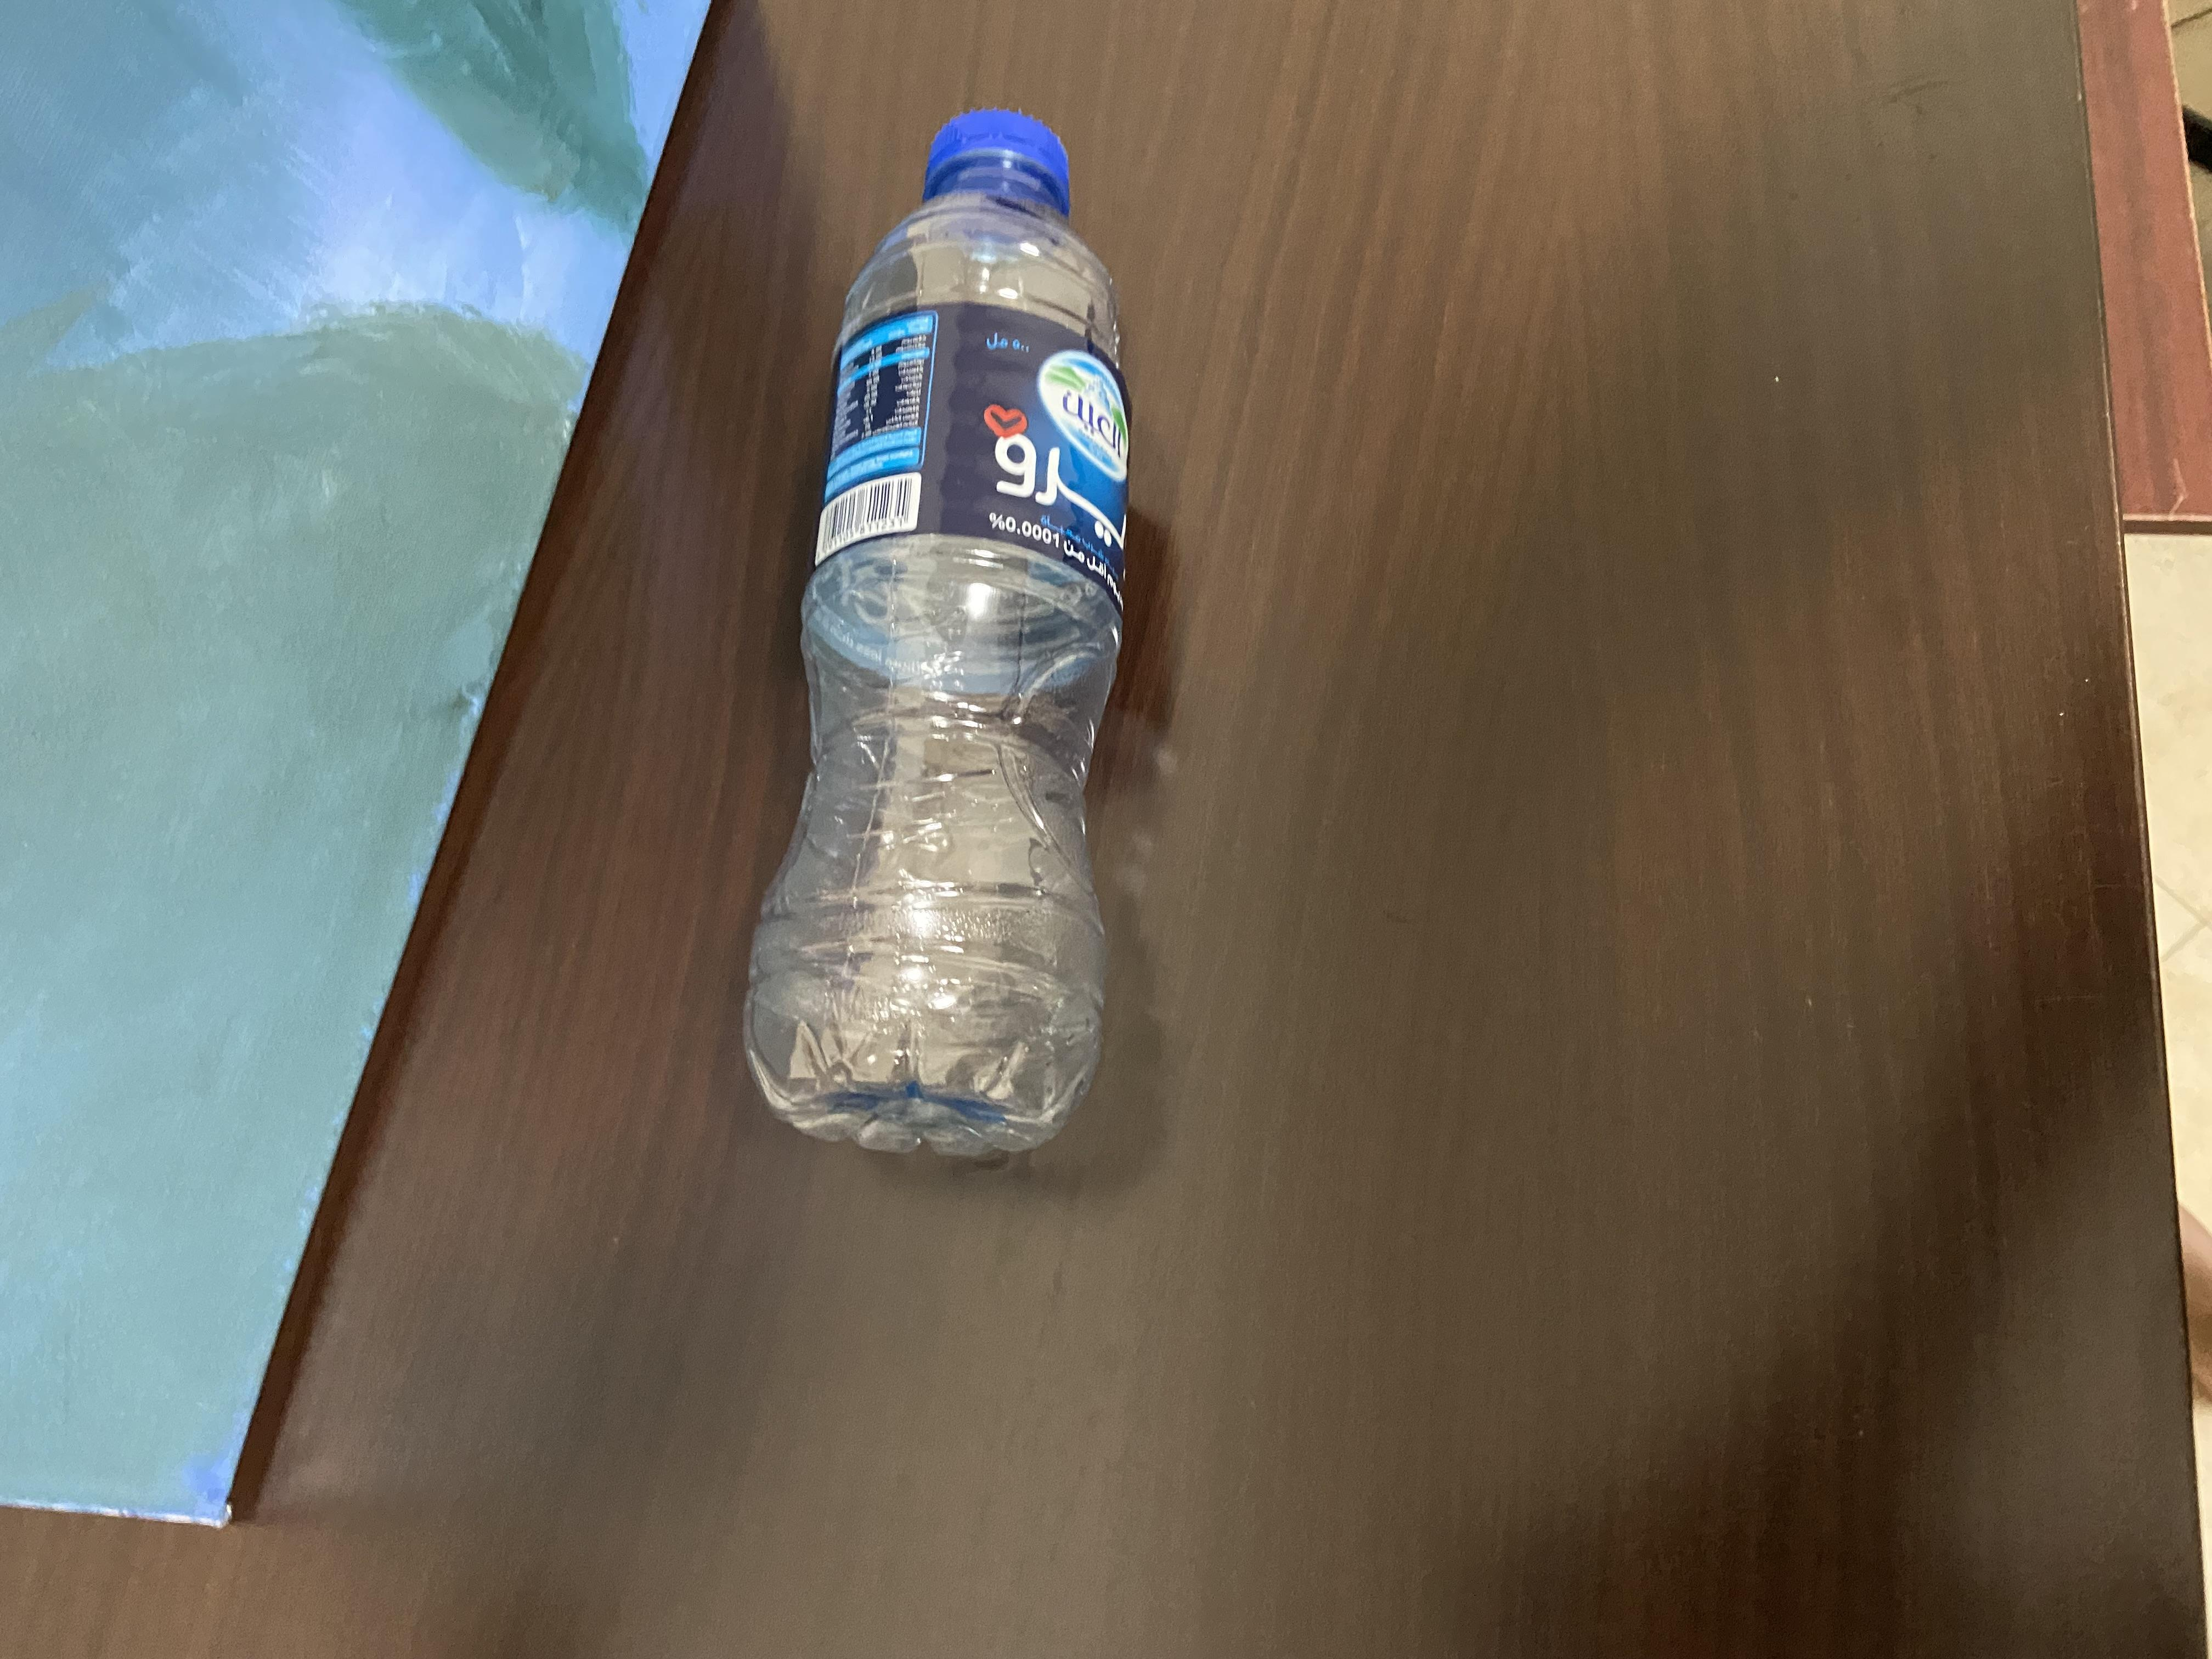bottle: (662, 549, 2085, 889)
